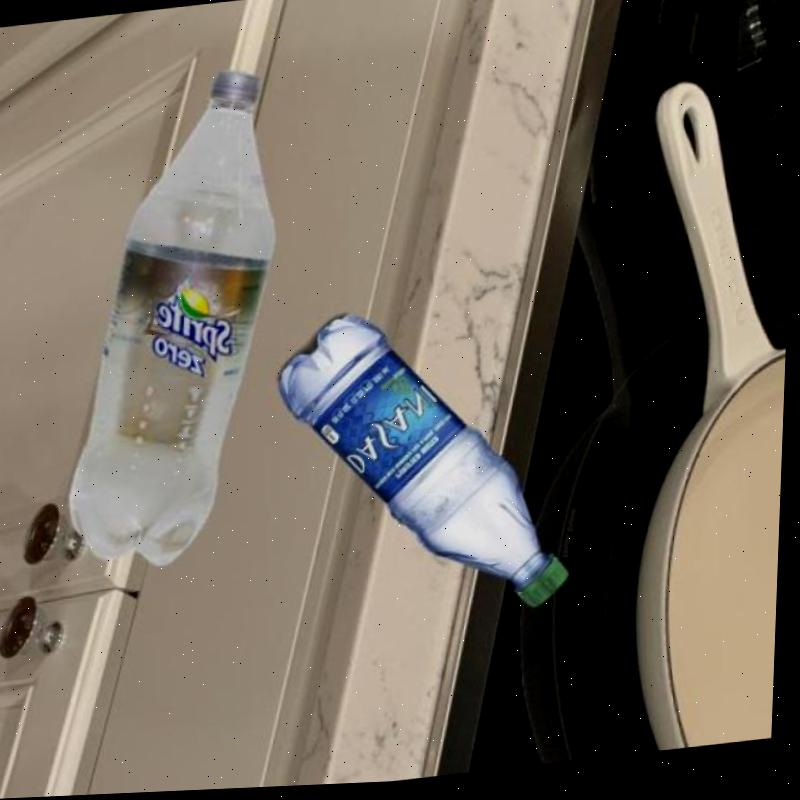botella: (37, 65, 304, 583), (270, 299, 583, 639)
